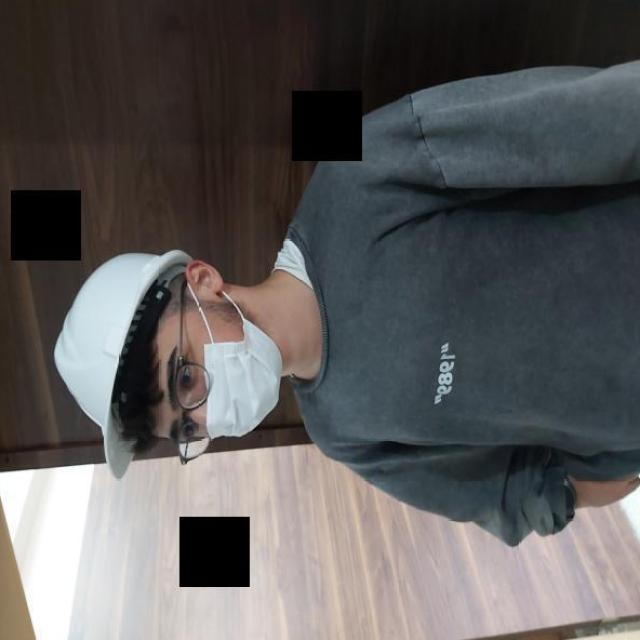helmet: (53, 247, 196, 479)
